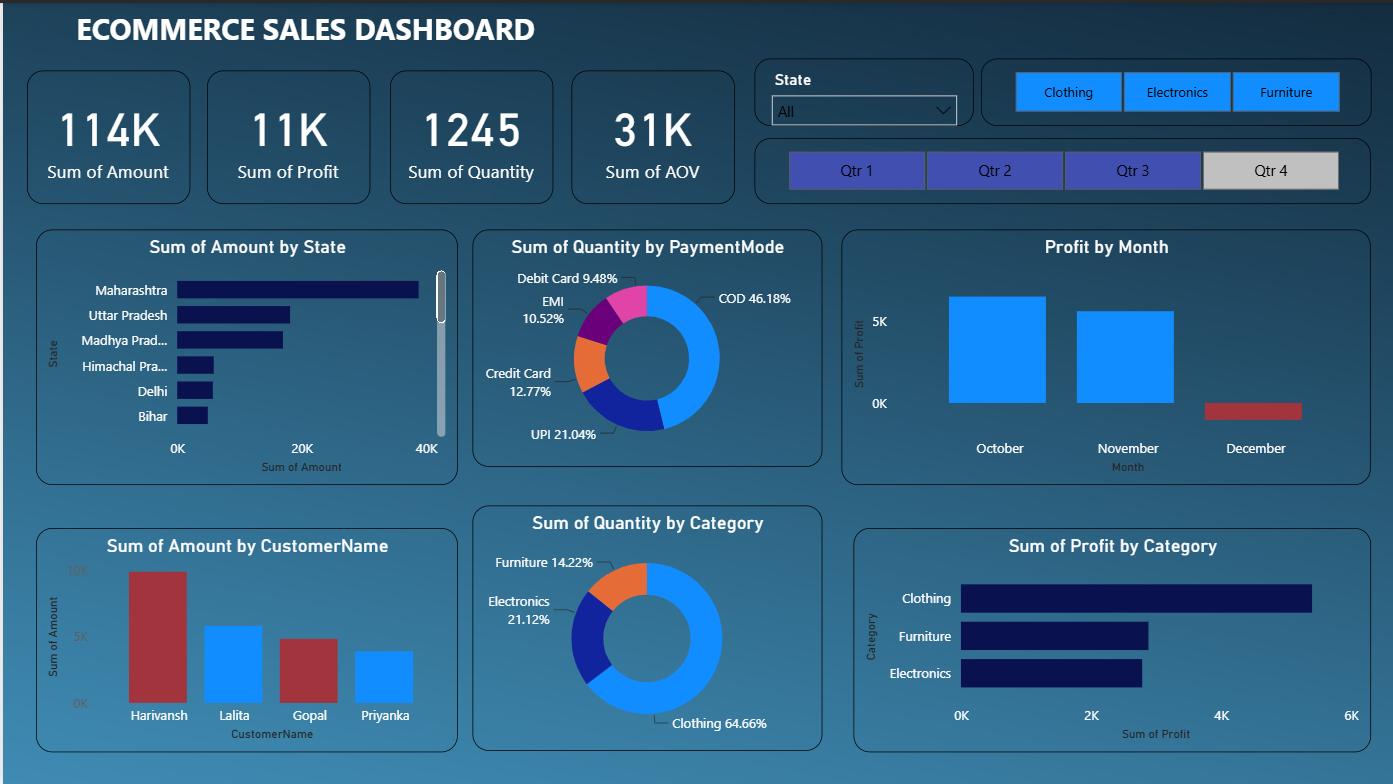

The dashboard page shown, as its layout file describes it:
{"tool":"powerbi","page":{"name":"Page 1","canvas":[1280,720],"ordinal":0},"visuals":[{"type":"textbox","box":[9.4,0,536.7,62.4],"z":0},{"type":"lineStackedColumnComboChart","title":"Profit by Month","fields":{"Category":["Orders.Order Date.Variation.Date Hierarchy.Month"],"Y":["Sum(Details.Profit)"]},"box":[770.7,207.4,486.1,234.7],"z":1000},{"type":"barChart","fields":{"Category":["Details.Category"],"Y":["Sum(Details.Profit)"]},"box":[781.3,481.5,475.5,205.9],"z":2000},{"type":"donutChart","fields":{"Category":["Details.Category"],"Y":["Sum(Details.Quantity)"]},"box":[431.5,461.8,321,225.6],"z":3000},{"type":"donutChart","fields":{"Y":["Sum(Details.Quantity)"],"Category":["Details.PaymentMode"]},"box":[431.5,207.4,321,218],"z":4000},{"type":"card","fields":{"Values":["Sum(Details.Amount)"]},"box":[22.7,62.1,149.9,122.7],"z":5000},{"type":"card","fields":{"Values":["Sum(Details.Quantity)"]},"box":[355.8,62.1,149.9,122.7],"z":6000},{"type":"card","fields":{"Values":["Sum(Details.Profit)"]},"box":[187.8,62.1,149.9,122.7],"z":7000},{"type":"card","fields":{"Values":["Sum(Details.AOV)"]},"box":[522.4,62.1,149.9,122.7],"z":8000},{"type":"barChart","fields":{"Category":["Orders.State"],"Y":["Sum(Details.Amount)"]},"box":[30.3,207.4,387.6,234.7],"z":9000},{"type":"columnChart","fields":{"Category":["Orders.CustomerName"],"Y":["Sum(Details.Amount)"]},"box":[30.3,481.5,387.6,205.9],"z":10000},{"type":"slicer","fields":{"Values":["Orders.Order Date.Variation.Date Hierarchy.Quarter"]},"box":[690.5,124.2,566.3,60.6],"z":11000},{"type":"slicer","fields":{"Values":["Orders.State"]},"box":[690.5,51.5,201.4,62.1],"z":12000},{"type":"slicer","fields":{"Values":["Details.Category"]},"box":[897.9,51.5,358.9,62.1],"z":13000}]}

Visuals, with their boxes in screenshot pixels (x1, y1, x2, y2), scaled from the page's 1280x720 canvas onto the 1393x784 screenshot:
textbox: rect(10, 0, 594, 68)
"Profit by Month" lineStackedColumnComboChart: rect(839, 226, 1368, 481)
barChart - Details.Category x Sum(Details.Profit): rect(850, 524, 1368, 749)
donutChart - Details.Category x Sum(Details.Quantity): rect(470, 503, 819, 749)
donutChart - Sum(Details.Quantity) x Details.PaymentMode: rect(470, 226, 819, 463)
card - Sum(Details.Amount): rect(25, 68, 188, 201)
card - Sum(Details.Quantity): rect(387, 68, 550, 201)
card - Sum(Details.Profit): rect(204, 68, 368, 201)
card - Sum(Details.AOV): rect(569, 68, 732, 201)
barChart - Orders.State x Sum(Details.Amount): rect(33, 226, 455, 481)
columnChart - Orders.CustomerName x Sum(Details.Amount): rect(33, 524, 455, 749)
slicer - Orders.Order Date.Variation.Date Hierarchy.Quarter: rect(751, 135, 1368, 201)
slicer - Orders.State: rect(751, 56, 971, 124)
slicer - Details.Category: rect(977, 56, 1368, 124)
